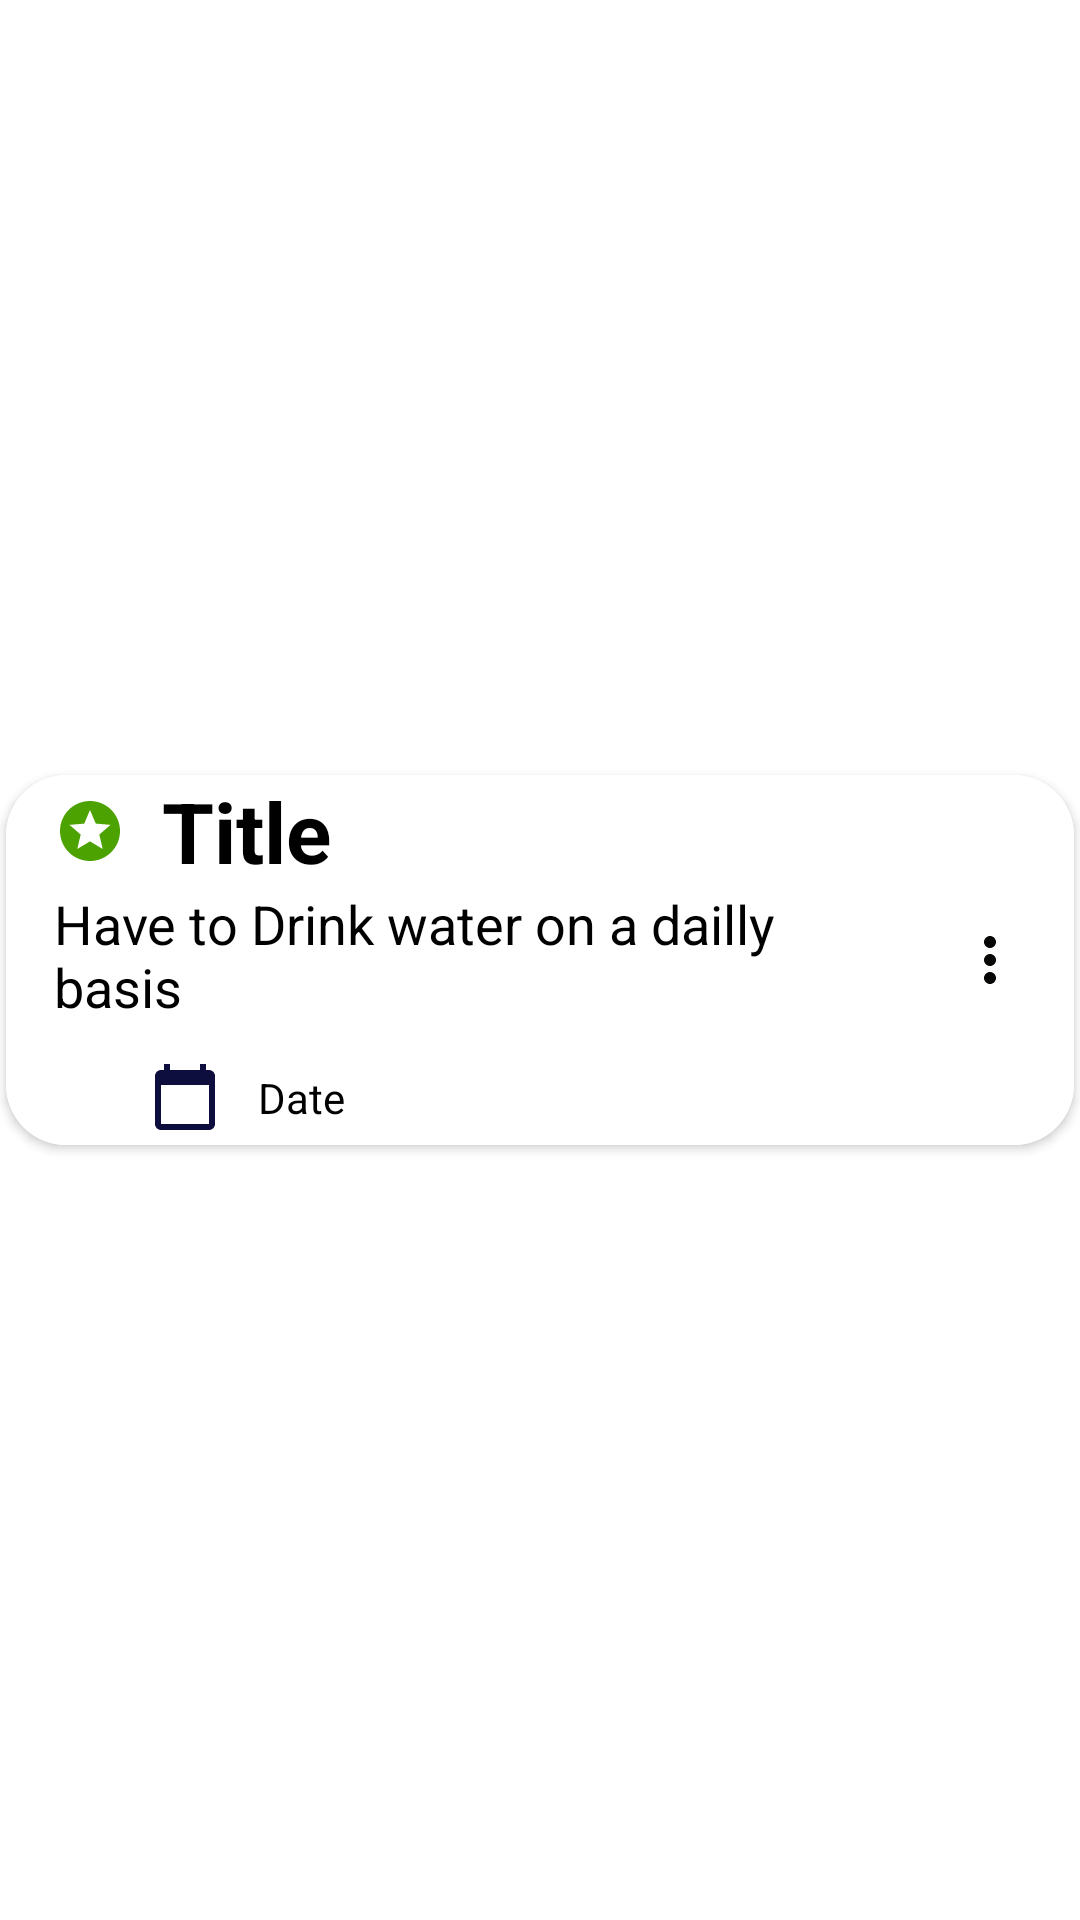

Named icons in this screenshot (1080 × 1920) and their bounding boxes, (x1, y1, x2, y2):
calender: (155, 1064, 215, 1130)
more vert: (984, 936, 996, 984)
star: (60, 801, 120, 861)
